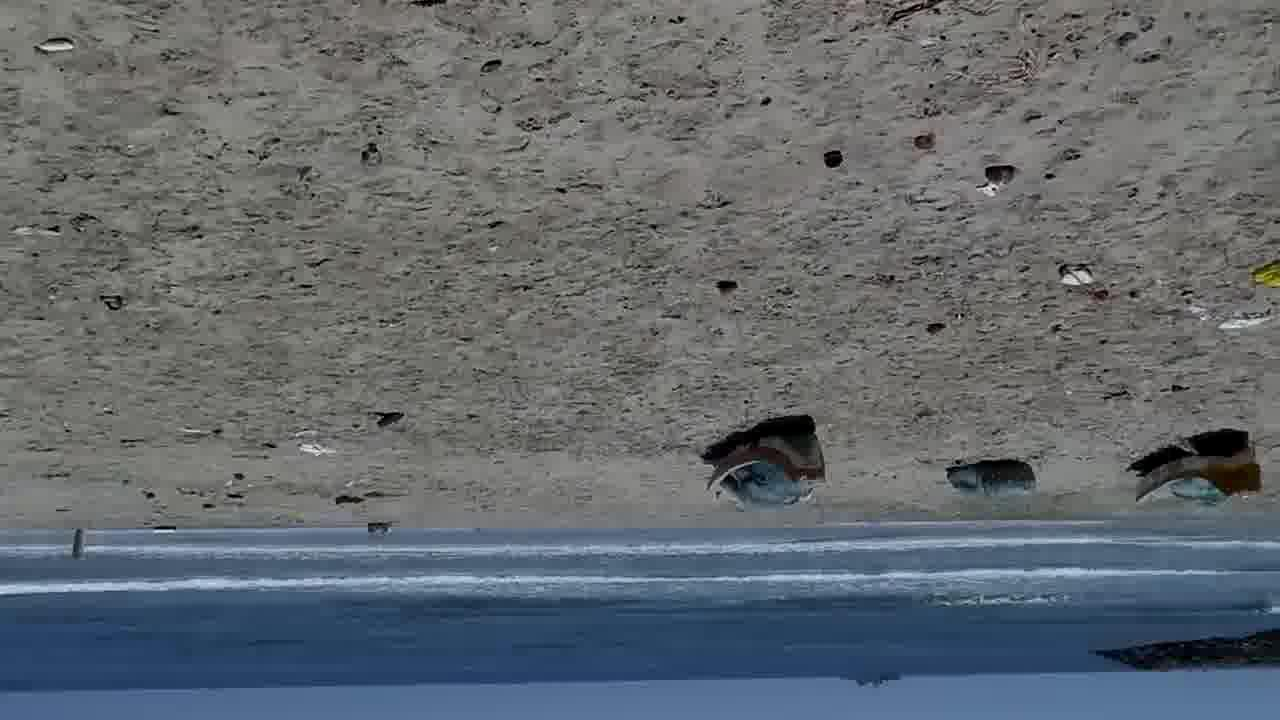large collection of objects: (704, 424, 830, 512), (1136, 436, 1264, 509), (950, 460, 1040, 497), (70, 526, 88, 556), (367, 521, 392, 534)
obj: (1178, 290, 1272, 333), (290, 425, 336, 459), (32, 29, 77, 55), (1058, 262, 1098, 288), (982, 162, 1018, 190), (362, 410, 407, 431), (98, 296, 134, 314), (1254, 262, 1276, 288), (718, 278, 744, 298), (912, 134, 939, 152), (820, 148, 840, 170)
sand/background: (0, 522, 1279, 718)
